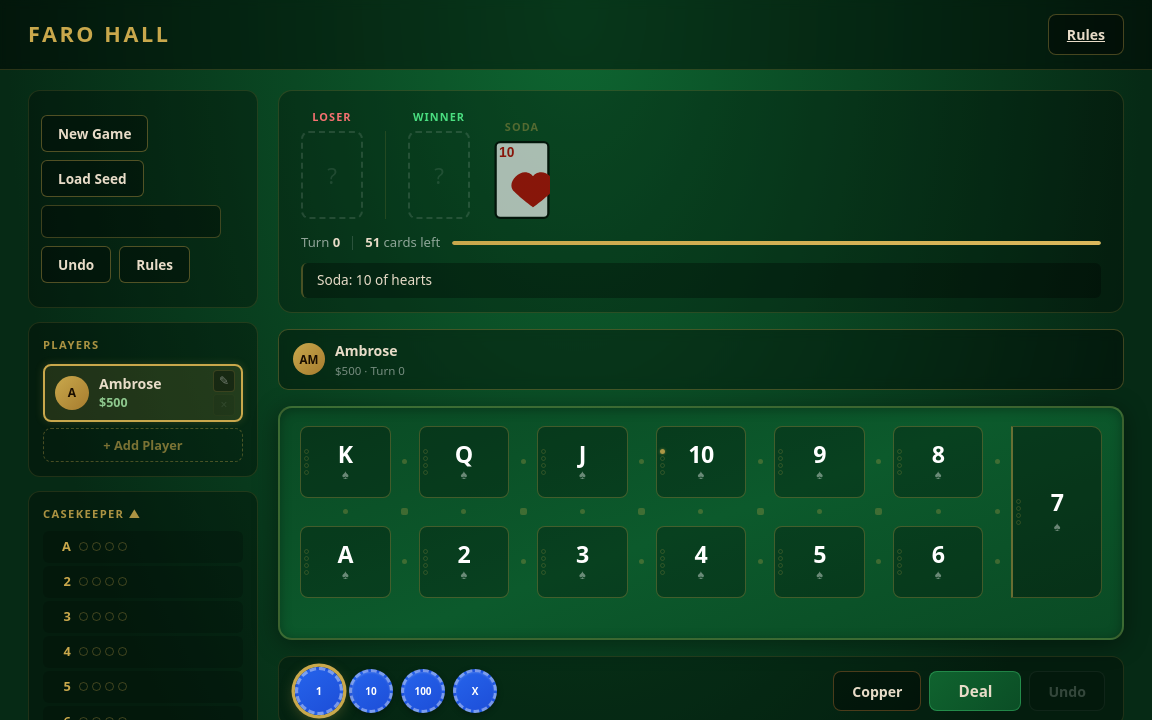
Scenario: Game page custom bet chip › entering amount via X chip input shows a custom chip
The image size is (1152, 720).
Click the button named "Custom bet amount": click(475, 691) x1=453 y1=669 x2=497 y2=713
(page scrolled)
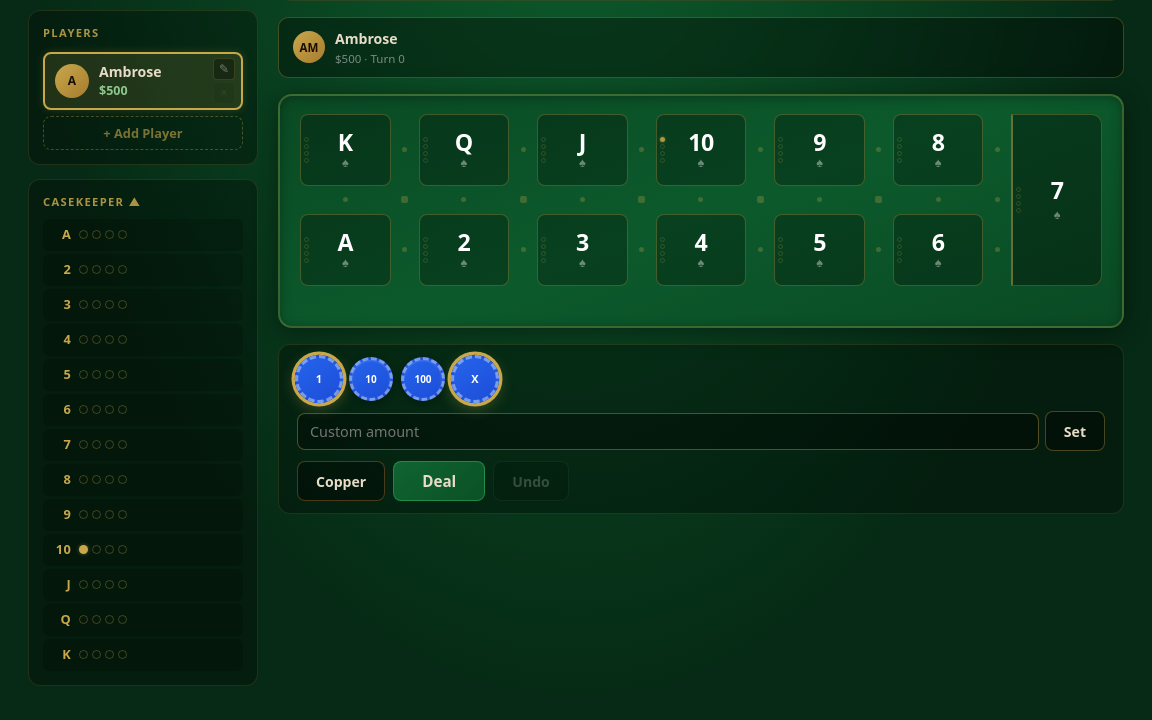
In the number field named "Custom bet amount input": (668, 431) x1=297 y1=413 x2=1039 y2=450, type "42"
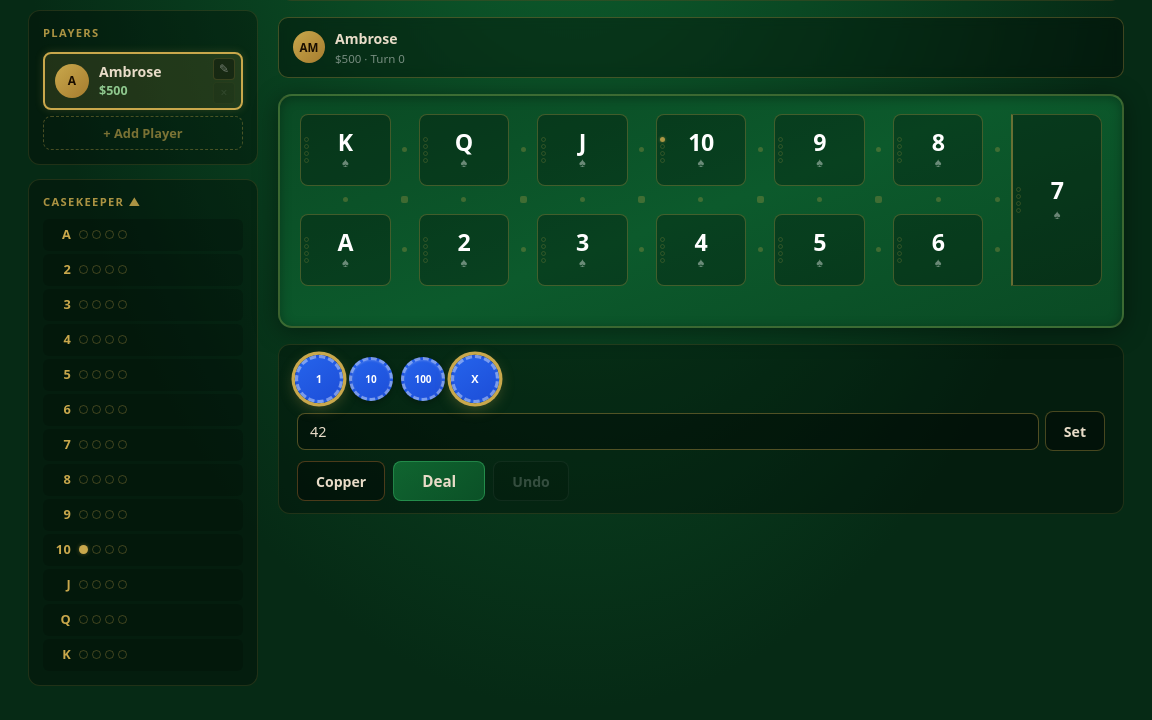
Press Enter in the number field named "Custom bet amount input", box x1=297 y1=413 x2=1039 y2=450
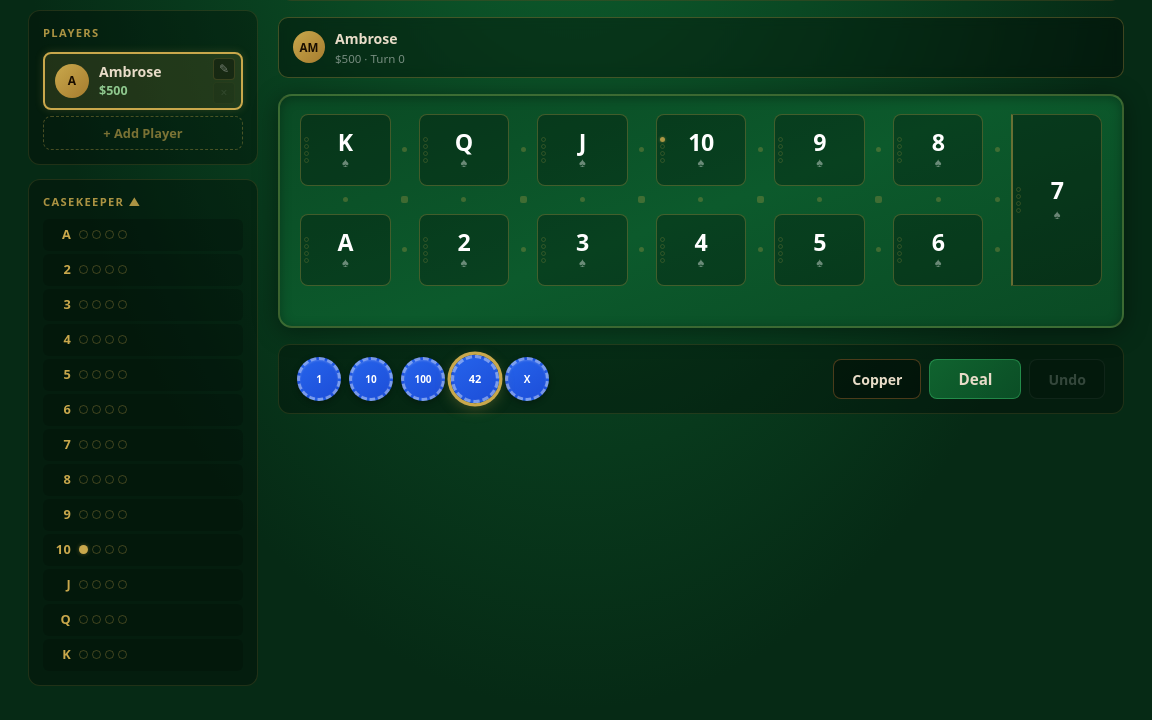
Result: the button named "$42 custom chip" is shown at x1=451 y1=355 x2=499 y2=404
